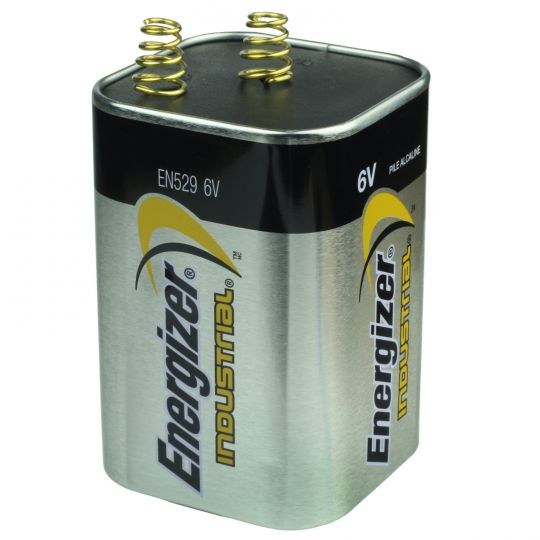6V: (77, 13, 452, 534)
